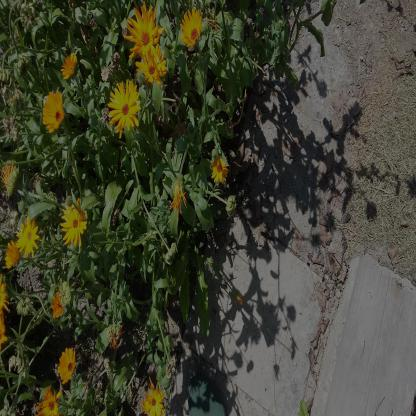marigold: (126, 4, 161, 61), (108, 79, 140, 134), (60, 198, 87, 247), (135, 47, 166, 86), (15, 214, 42, 254), (141, 376, 165, 416), (42, 90, 65, 130), (180, 7, 202, 48), (36, 385, 61, 415), (57, 347, 76, 383), (210, 150, 228, 184), (60, 52, 77, 80)
